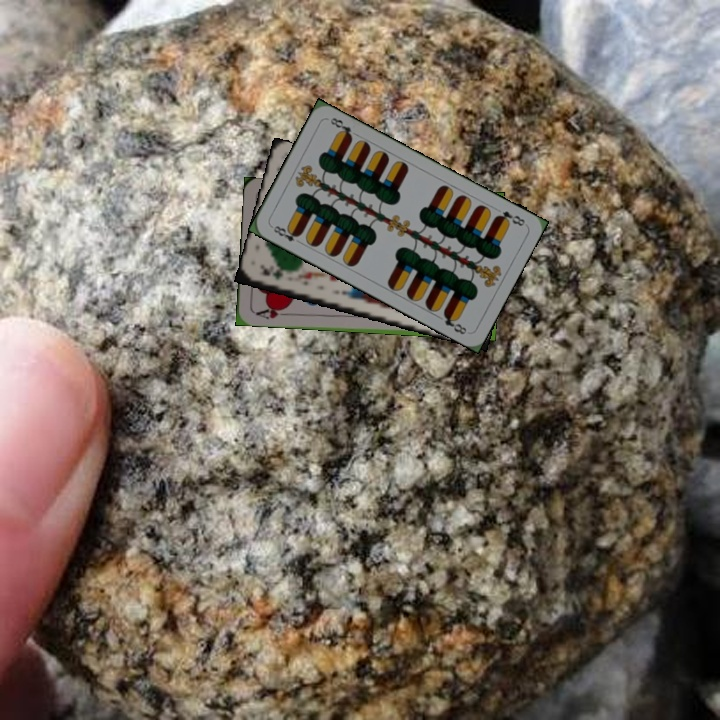E8: (267, 222, 304, 247), (492, 207, 528, 229)
GK: (255, 263, 286, 283)
HA: (252, 303, 292, 322)
